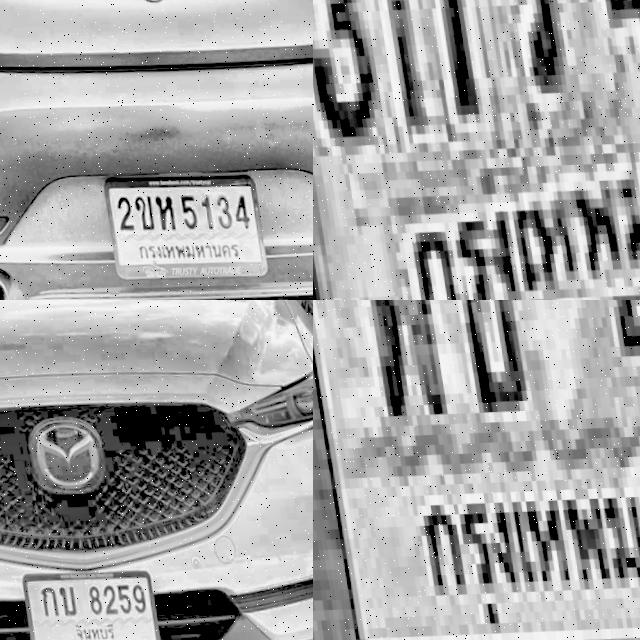license-plate: (313, 300, 640, 640), (313, 0, 640, 300), (90, 159, 260, 285), (8, 557, 154, 640)
